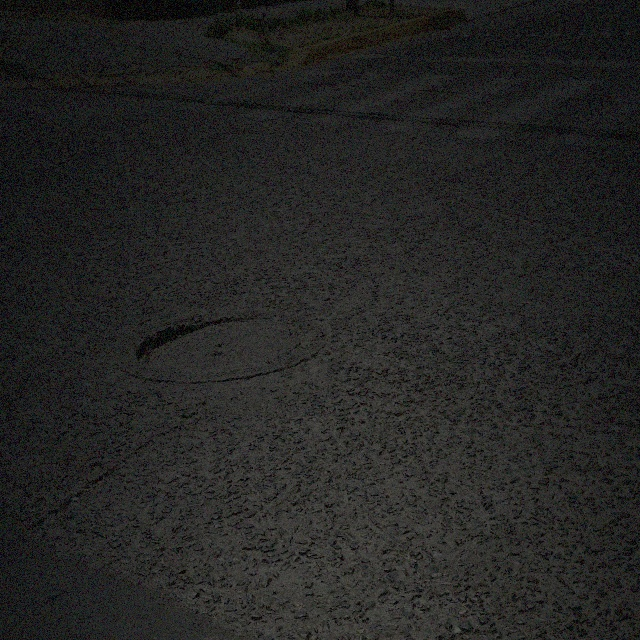pothole: (134, 310, 211, 372)
